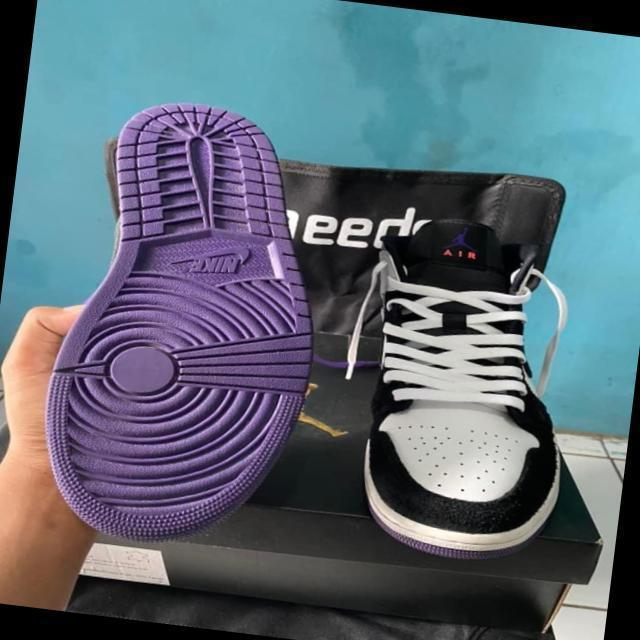nike fake jordan 1: (336, 208, 590, 574)
